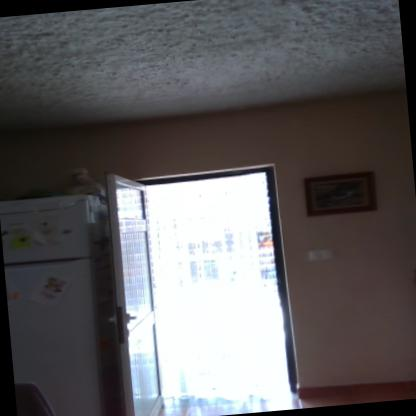open: (83, 144, 321, 415)
